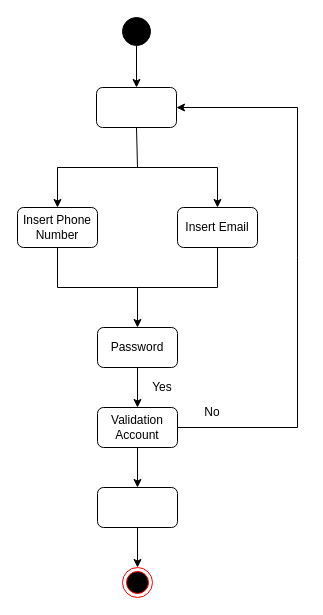
The diagram is 323 pixels wide and 615 high, and some of its shapes have lost their labels. The box of each missing label's shape, as (x1, y1, x2, y2) in pixels:
Homepage: (96, 486, 178, 528)
Login Page: (96, 86, 176, 128)
